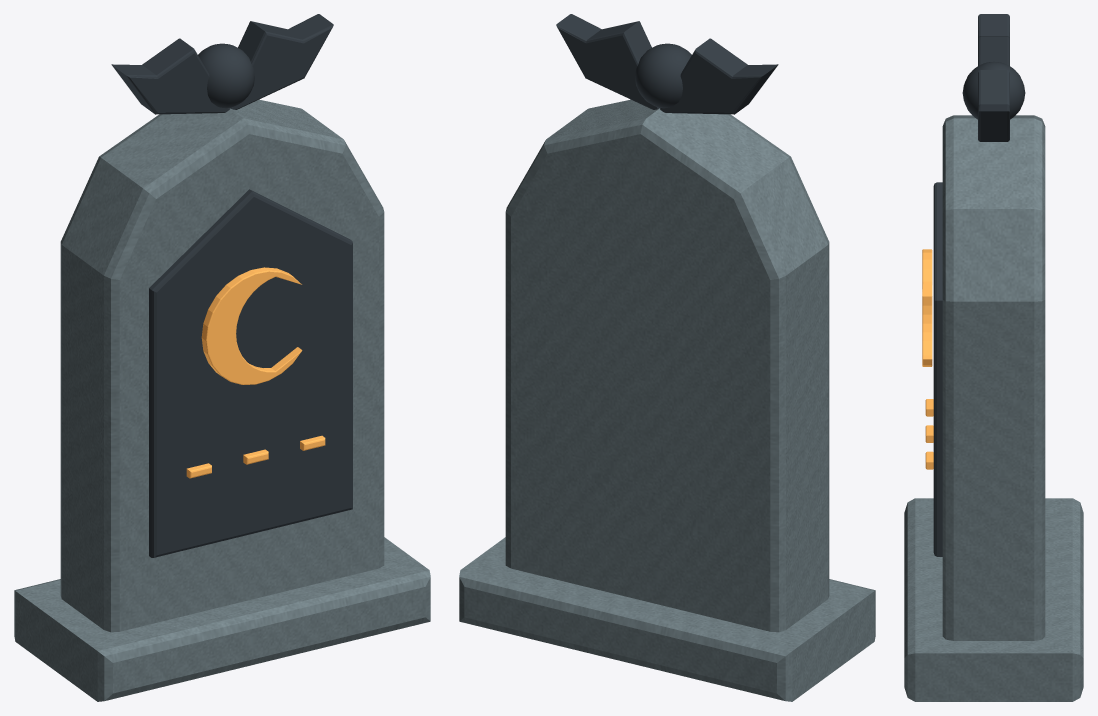
Rendered from hollowwick-halloween-raven-crested-headstone-24601874__21624.glb.
3 views of the same model, side by side, from view 1: azimuth 30°, elevation 25°; view 2: azimuth 150°, elevation 25°; view 3: azimuth 270°, elevation 25° (orthographic). The views are drawn at different scales.
Visible parts, largest first — view 1: raven-crested-headstone; view 2: raven-crested-headstone; view 3: raven-crested-headstone.
Part boxes in pixels (x1,y1,x2,y2): raven-crested-headstone: (14,14,430,701); raven-crested-headstone: (459,14,875,701); raven-crested-headstone: (904,14,1083,701).
Bounding box in the file's own units: 0.82 × 1.41 × 0.4.
Materials: 3 (1 with a texture image).
